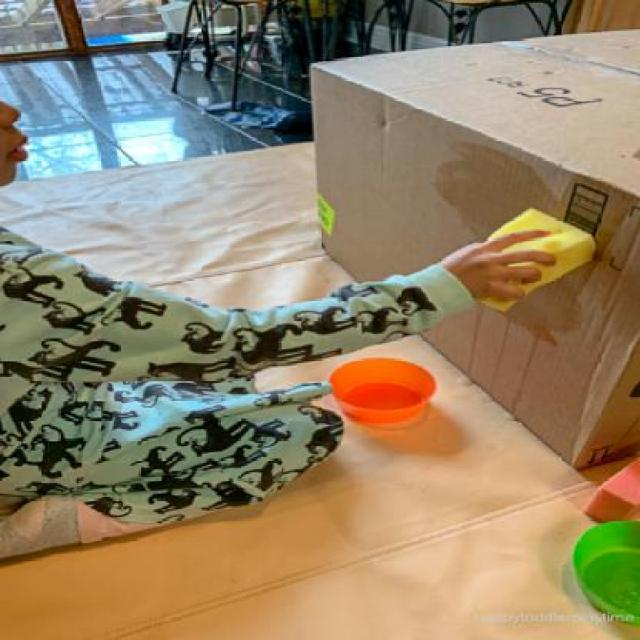box: (308, 26, 640, 470)
